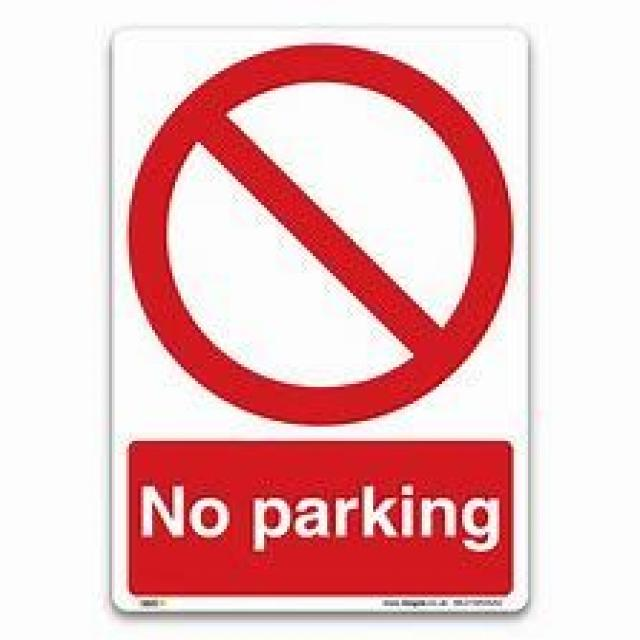NO_PARKING: (126, 42, 508, 424)
